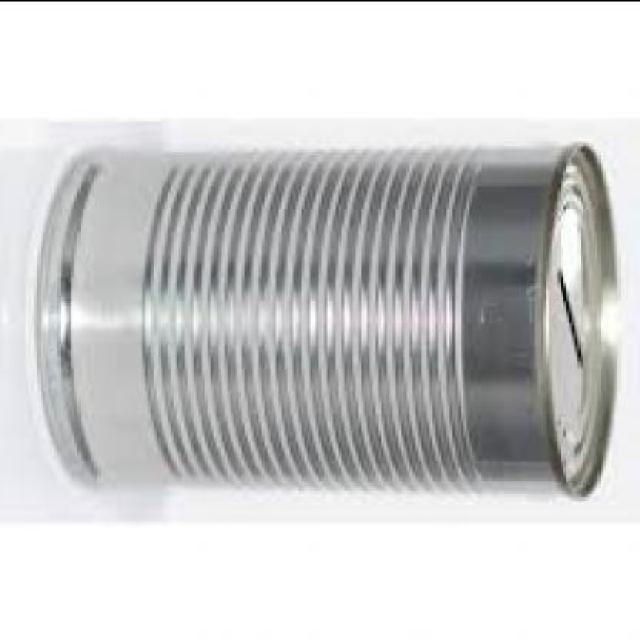METAL: (37, 144, 620, 498)
